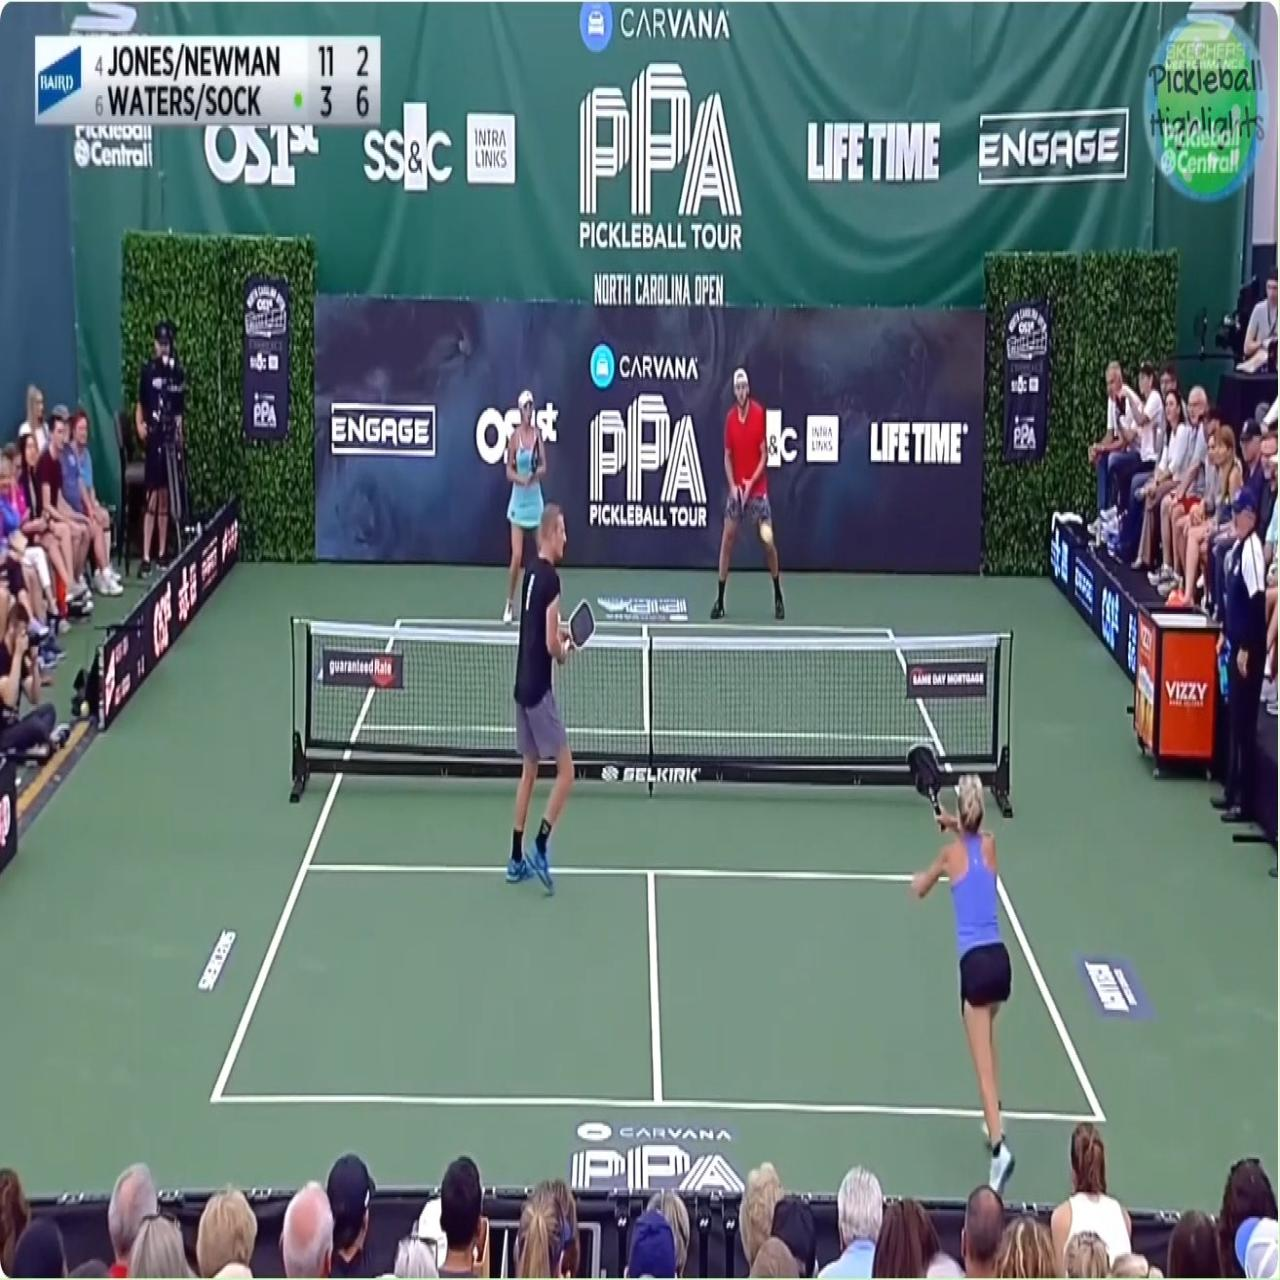pickleball: (760, 524, 772, 543)
